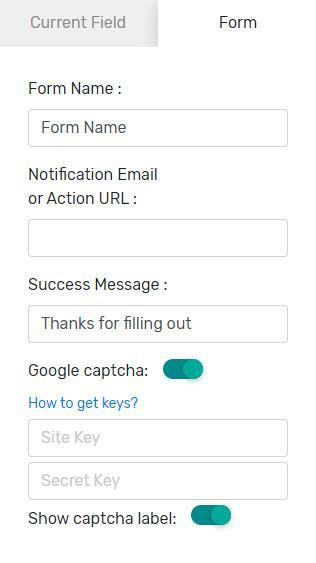input: (30, 305, 288, 345), (29, 221, 288, 259), (30, 420, 289, 458), (29, 112, 288, 149), (29, 465, 288, 500)
label: (26, 162, 169, 207), (29, 507, 176, 536), (24, 272, 173, 298), (26, 390, 141, 414), (23, 362, 147, 384), (25, 79, 125, 101)
switch: (162, 358, 207, 383), (191, 505, 233, 528)
